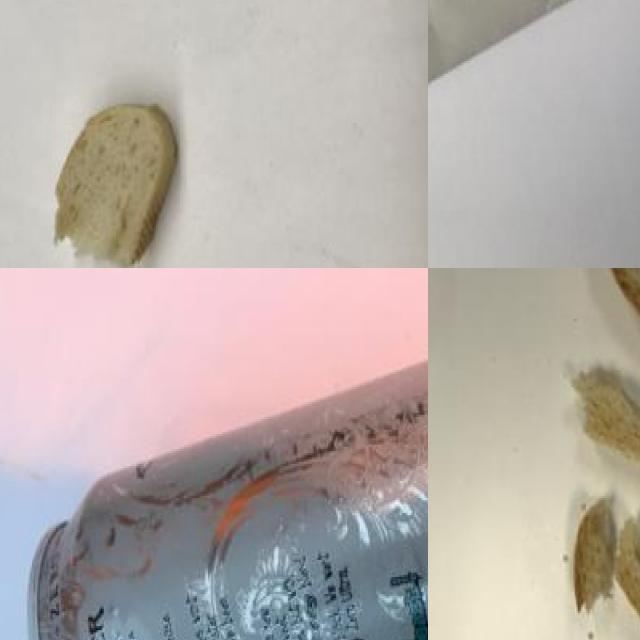compost: (502, 268, 640, 640), (44, 81, 189, 268)
paper: (428, 0, 640, 226)
plastic: (30, 281, 428, 640)
